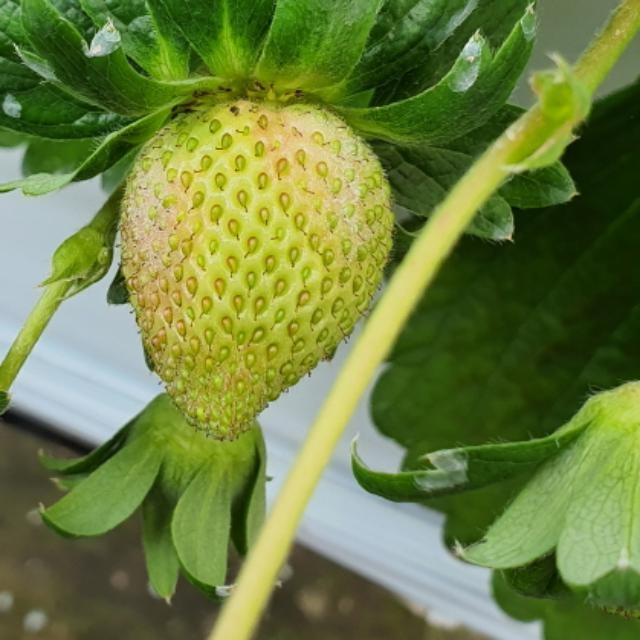Powdery Mildew Fruit: (119, 91, 397, 442)
